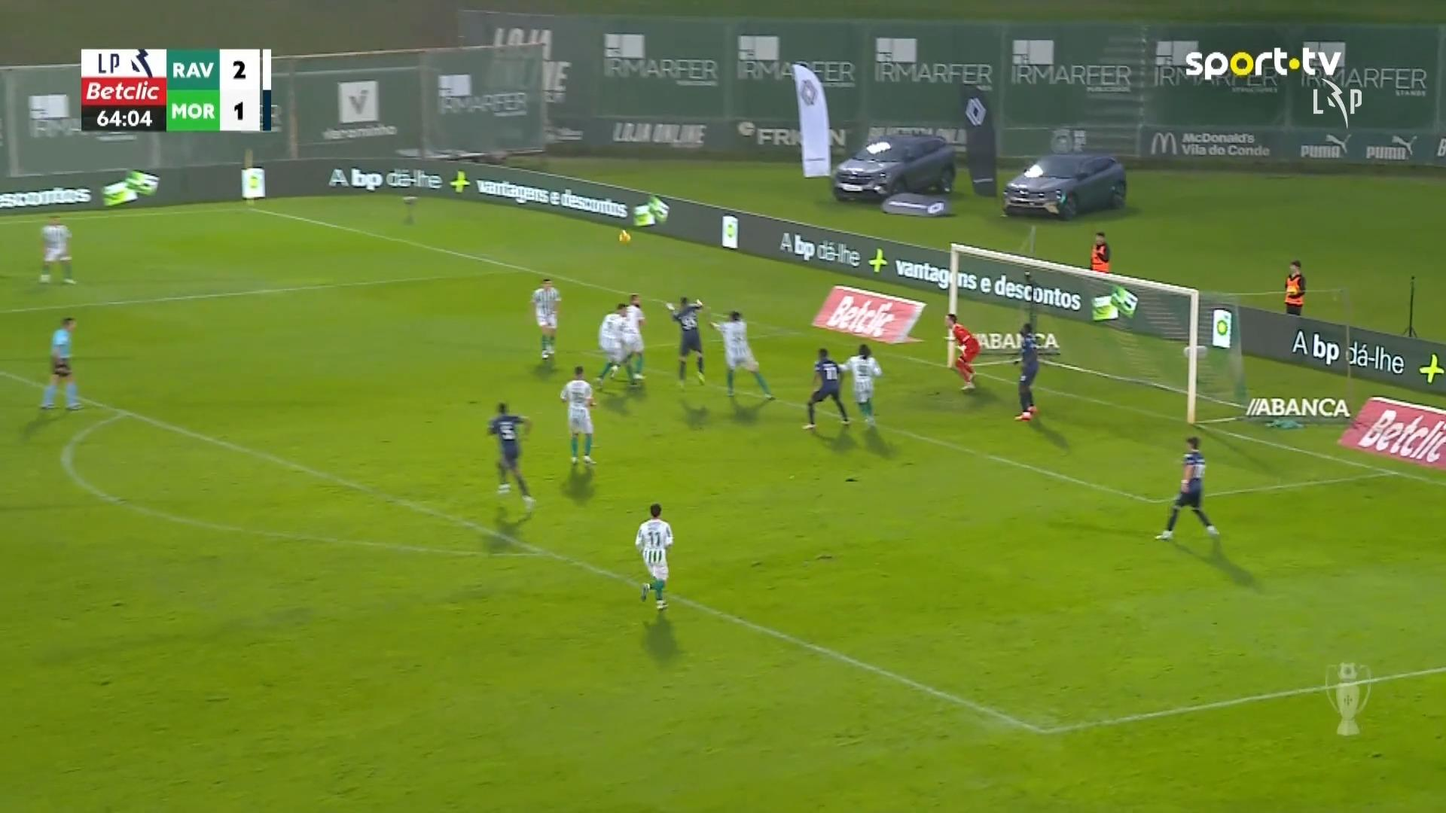ball: (618, 229, 630, 243)
goalkeeper: (944, 312, 980, 391)
player: (1155, 434, 1220, 540), (708, 309, 775, 400), (486, 400, 535, 507), (633, 502, 673, 610), (801, 346, 850, 429), (559, 365, 597, 464), (666, 295, 706, 388), (841, 343, 882, 427), (593, 302, 629, 391), (1011, 321, 1040, 420), (38, 215, 77, 285), (617, 293, 647, 382), (531, 276, 561, 360)
referee: (38, 315, 83, 410)
